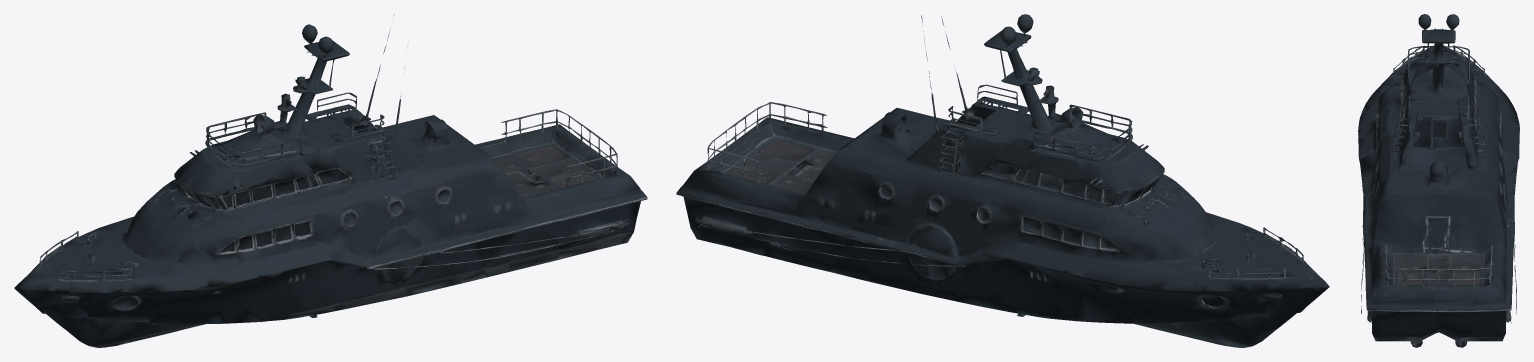
Rendered from pawn_black.glb.
3 renders of one model, left to right at view 1: azimuth 30°, elevation 25°; view 2: azimuth 150°, elevation 25°; view 3: azimuth 270°, elevation 25°, orthographic. The views are drawn at different scales.
Visible parts, largest first — view 1: mesh_node; view 2: mesh_node; view 3: mesh_node.
Boxes of the visible parts, bbox=[...] form: mesh_node: bbox=[14, 14, 647, 347]; mesh_node: bbox=[676, 14, 1329, 347]; mesh_node: bbox=[1358, 14, 1519, 347].
Size of the model in its own units: 1.9 by 0.8177 by 0.5246.
1 material, 1 textured.
